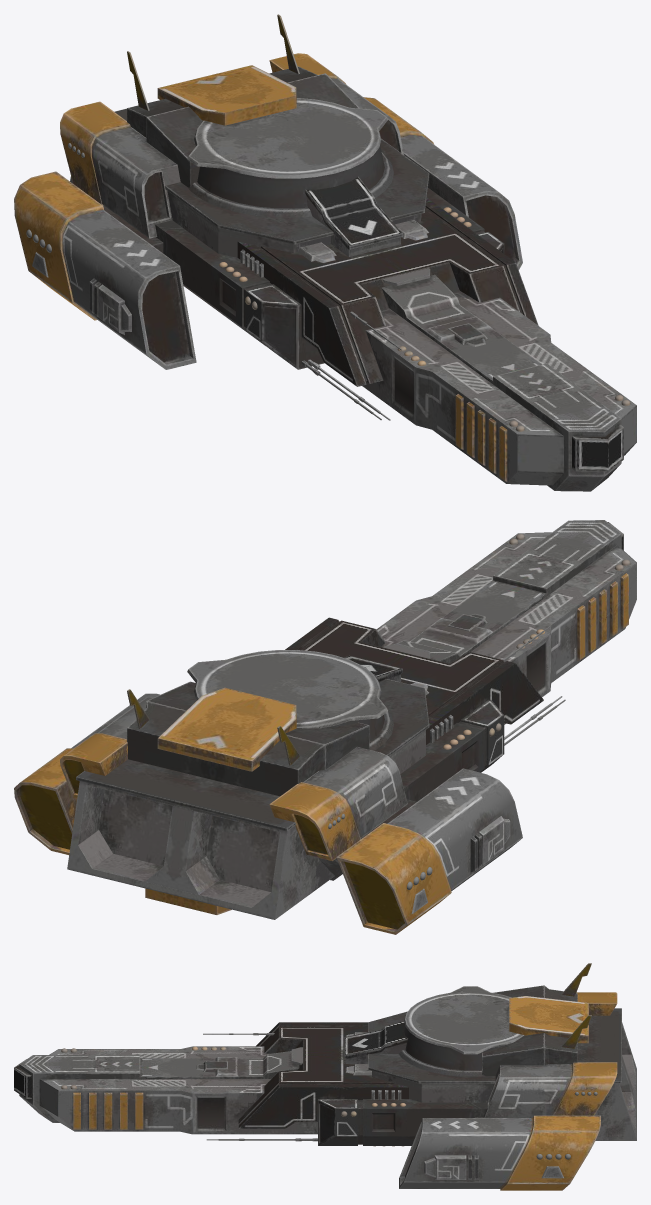
File: insurgent.glb
The picture shows the model from 3 angles, top to bottom: view 1: azimuth 30°, elevation 25°; view 2: azimuth 150°, elevation 25°; view 3: azimuth 270°, elevation 25°; orthographic projection. The views are drawn at different scales.
Parts seen in each view (by area): view 1: Insurgent; view 2: Insurgent; view 3: Insurgent.
Boxes of the visible parts, x1,y1,x2,y2 form: Insurgent: (14,14,636,491); Insurgent: (14,520,636,934); Insurgent: (14,963,636,1190).
Bounding box in the file's own units: 5.57 × 2.87 × 10.95.
Materials: 1 (1 with a texture image).
